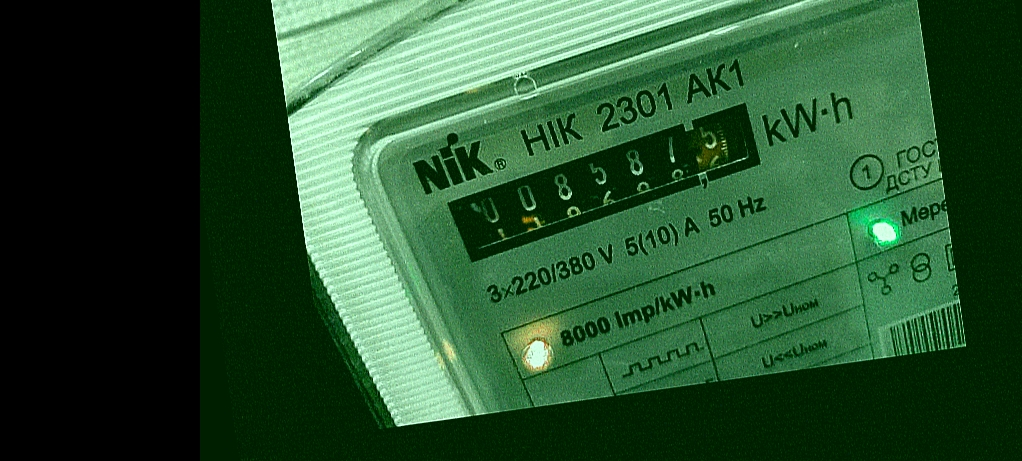0: (512, 177, 543, 214), (476, 190, 506, 226)
5: (586, 154, 613, 188), (696, 117, 722, 150)
6: (705, 151, 726, 170)
7: (658, 131, 685, 168)
8: (550, 168, 579, 203), (622, 143, 649, 179)
screen: (432, 97, 792, 266)
